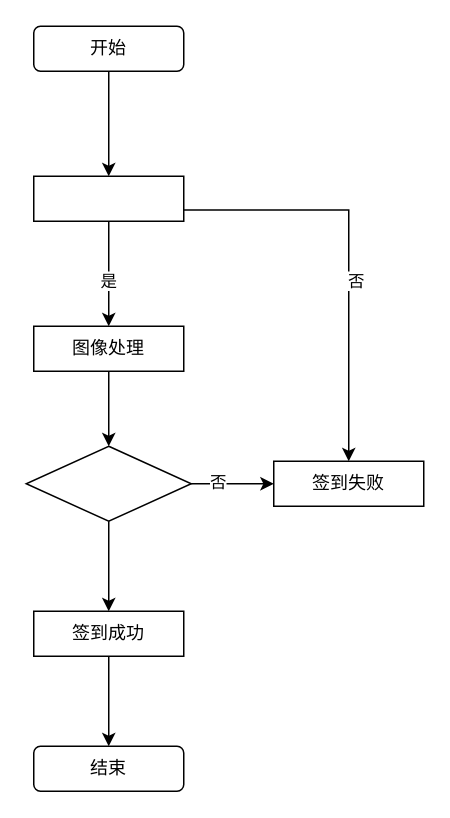
Image size: 450x818. Some labels were removed from this diagram. The shapes that lost their labels are listed below. From the top down, each one's centre as x and y in pixels, then its label:
At (x=108, y=198): "获取本地人脸图像".
At (x=108, y=483): "与云端数据对比".
